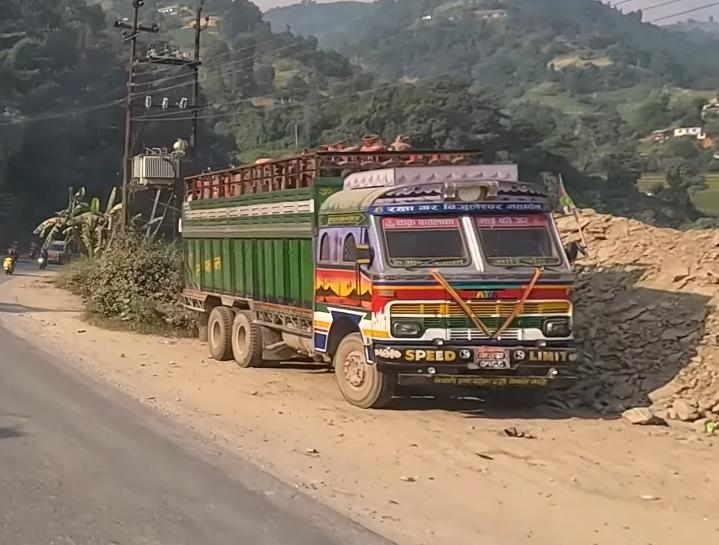truck: (178, 134, 585, 409)
